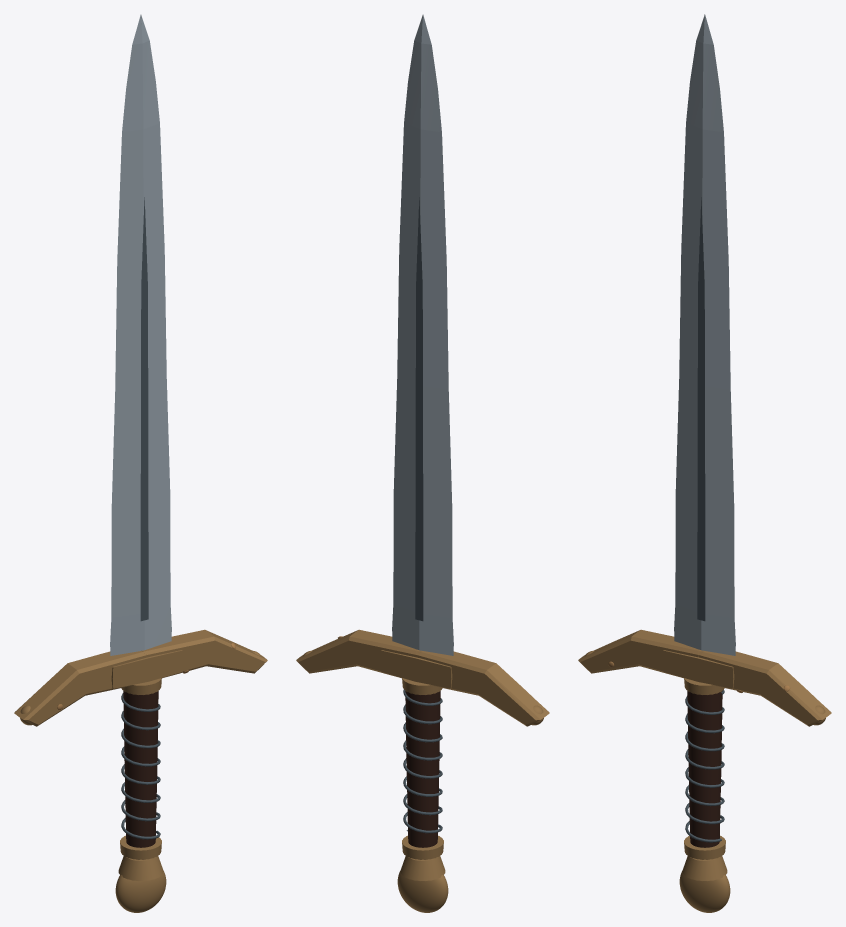
The model's file is longsword.lod1.glb.
3 renders of one model, left to right at view 1: azimuth 30°, elevation 25°; view 2: azimuth 150°, elevation 25°; view 3: azimuth 330°, elevation 25°, orthographic.
Visible parts, largest first — view 1: blade, grip, quillon.-1, fuller.1, quillon.1, guard block, wheel pommel, leather binding, pommel neck, grip collar; view 2: blade, grip, quillon.-1, fuller.-1, quillon.1, guard block, wheel pommel, leather binding, pommel neck, grip collar; view 3: blade, grip, quillon.1, fuller.1, quillon.-1, guard block, wheel pommel, leather binding, pommel neck, grip collar.
Part boxes in pixels (x1,y1,x2,y2): blade: (110, 14, 171, 655); grip: (123, 691, 158, 847); quillon.-1: (14, 649, 147, 726); fuller.1: (140, 197, 148, 621); quillon.1: (142, 629, 267, 678); guard block: (111, 650, 183, 688); wheel pommel: (115, 870, 166, 912); leather binding: (121, 693, 160, 839); pommel neck: (118, 856, 163, 880); grip collar: (120, 835, 161, 859); blade: (392, 14, 453, 655); grip: (405, 691, 440, 847); quillon.-1: (416, 649, 549, 726); fuller.-1: (415, 197, 423, 621); quillon.1: (296, 629, 421, 678); guard block: (380, 650, 452, 688); wheel pommel: (397, 870, 448, 912); leather binding: (403, 689, 442, 833); pommel neck: (400, 856, 445, 880); grip collar: (402, 835, 443, 859); blade: (674, 14, 735, 655); grip: (687, 691, 722, 847); quillon.1: (698, 649, 831, 726); fuller.1: (697, 197, 705, 621); quillon.-1: (578, 629, 703, 678); guard block: (662, 650, 734, 688); wheel pommel: (679, 870, 730, 912); leather binding: (685, 690, 724, 842); pommel neck: (682, 856, 727, 880); grip collar: (684, 835, 725, 859).
Bounding box in the file's own units: 0.3613 × 1.26 × 0.0572.
